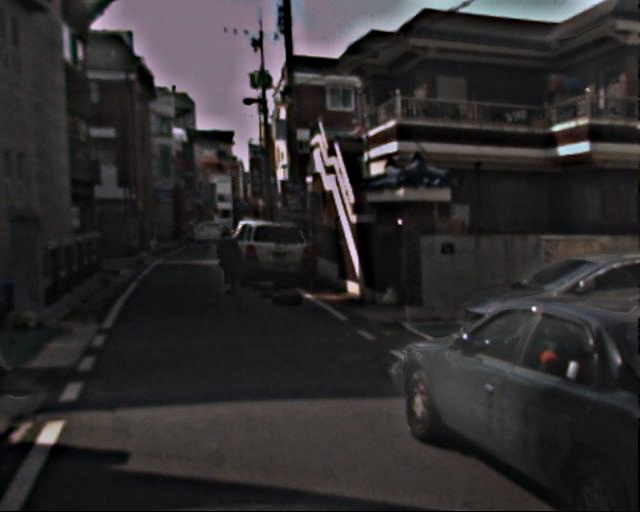person: (211, 227, 241, 299)
